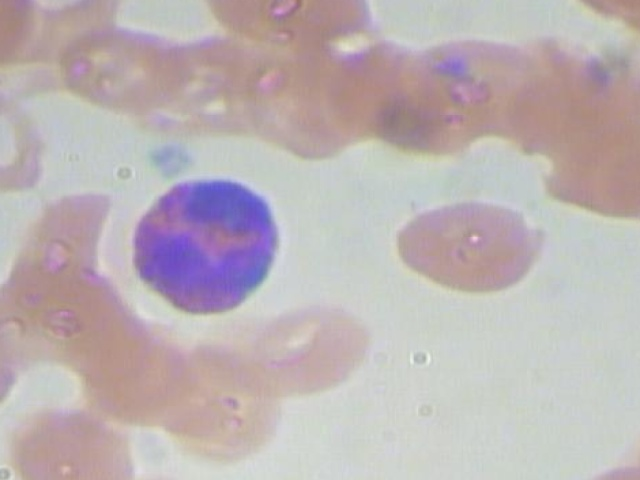RBC: (150, 339, 304, 468), (0, 182, 142, 310), (223, 288, 389, 397), (391, 197, 556, 306), (238, 37, 375, 162), (396, 30, 551, 140), (57, 15, 190, 118), (0, 402, 163, 480), (0, 84, 69, 193), (0, 302, 41, 411), (0, 0, 39, 71), (536, 461, 640, 480)
WBC: (124, 176, 288, 324)
